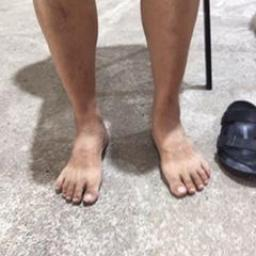Front View -Both Feet-: (44, 81, 215, 226)
